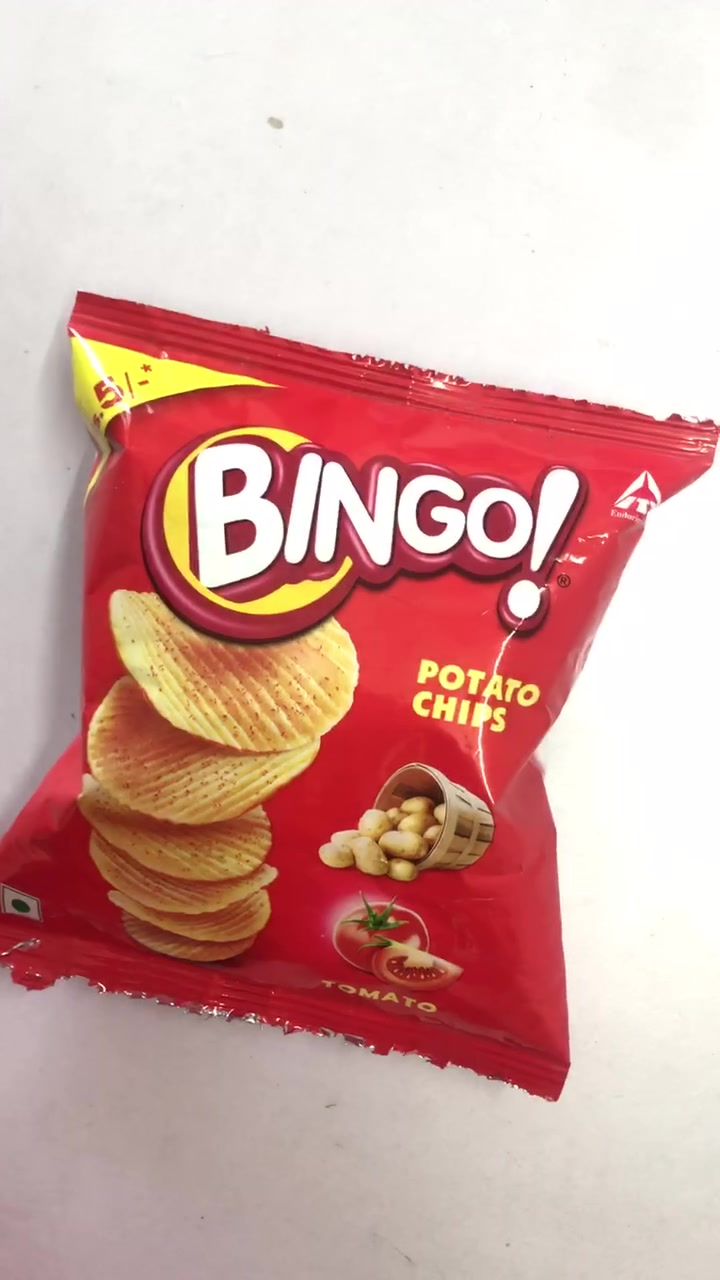Bingo: (10, 292, 719, 1095)
